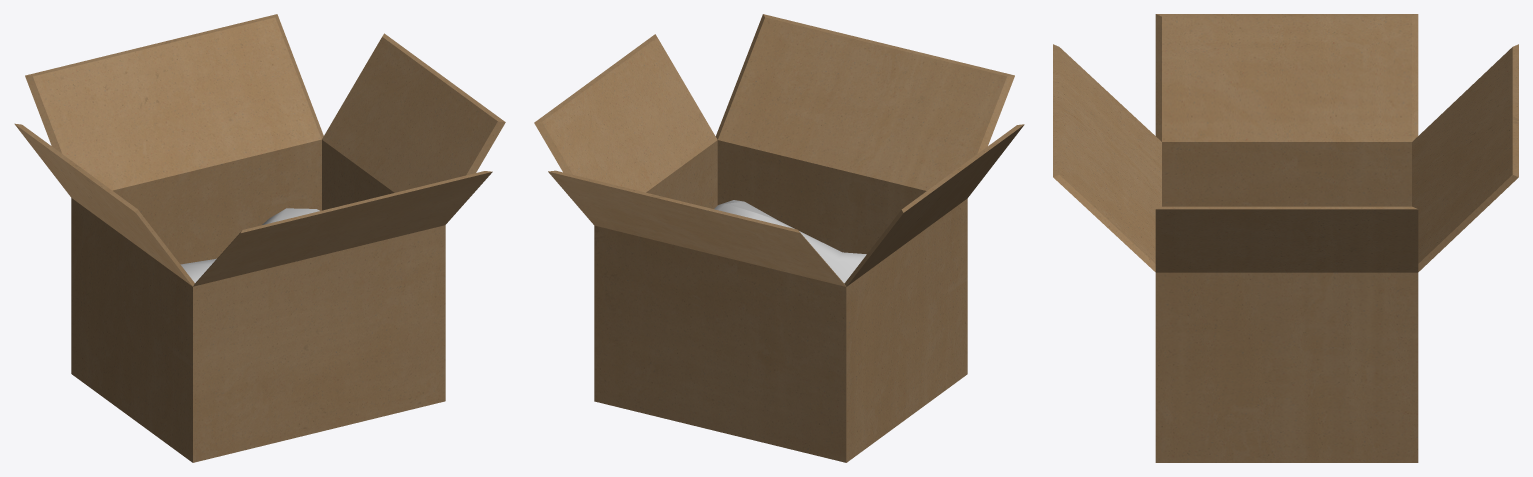
File: caixaAberta.fbx
3 renders of one model, left to right at view 1: azimuth 30°, elevation 25°; view 2: azimuth 150°, elevation 25°; view 3: azimuth 270°, elevation 25°, orthographic. The views are drawn at different scales.
Parts seen in each view (by area): view 1: caixaAberta; view 2: caixaAberta; view 3: caixaAberta.
Boxes of the visible parts, box(x1,y1,x2,y2) form: caixaAberta: box(14, 14, 505, 462); caixaAberta: box(534, 14, 1024, 462); caixaAberta: box(1053, 14, 1518, 462).
Size of the model in its own units: 87.93 by 60 by 88.68.
